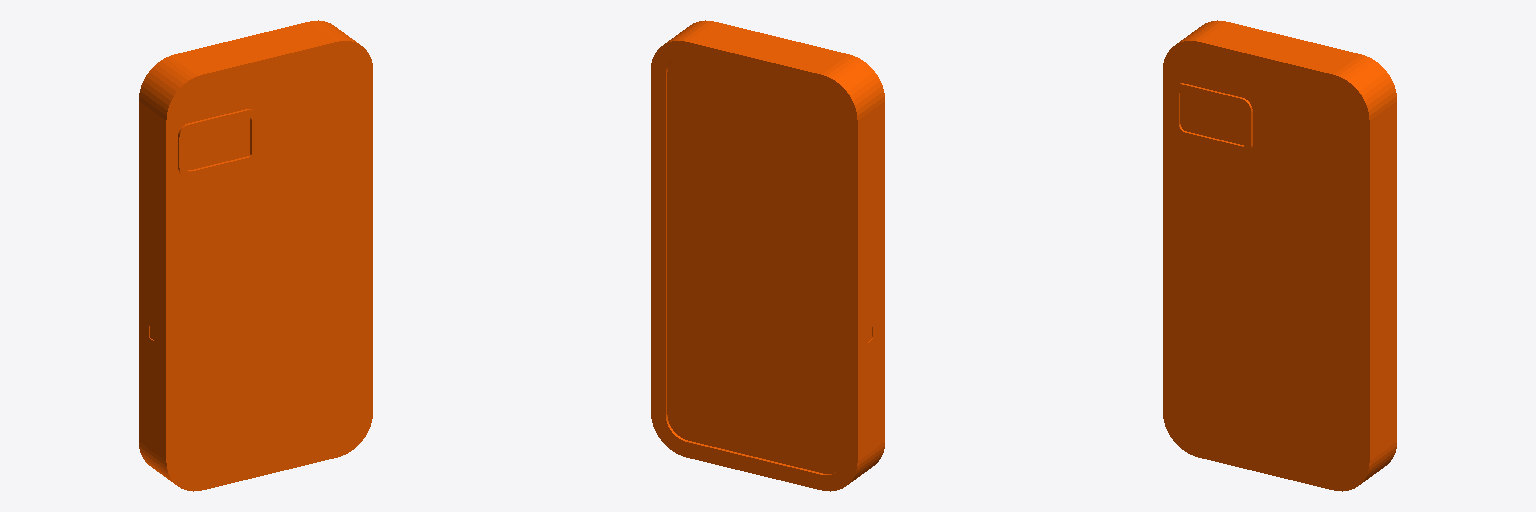
robot.urdf — CellPhone_24c665b954ccb8c26e4f3fb3ce0feb39:
<?xml version="1.0" ?>
<robot name="CellPhone_24c665b954ccb8c26e4f3fb3ce0feb39">
   <material name="obj_color">
      <color rgba="1.0 0.423529411765 0.0392156862745 1.0"/>
   </material>
   <link name="top">
      <inertial>
         <origin rpy="3.35506641357598e-05 0.0001183378525988911 0.0001482012018864136" xyz="0.0005322460676315547 0.000231392376491475 -0.002314346950554434"/>
         <mass value="0.1030560068541474"/>
         <inertia ixx="0.0001183375018616565" ixy="-8.76678151634423e-08" ixz="2.264321139962334e-07" iyy="0.0001482005382532192" iyz="2.164855245927147e-07" izz="3.35516785061887e-05"/>
      </inertial>
      <visual>
         <origin rpy="0 0 0" xyz="0 0 0"/>
         <geometry>
            <mesh filename="top_watertight_tiny.stl" scale="1 1 1"/>
         </geometry>
         <material name="obj_color"/>
      </visual>
      <collision>
         <origin rpy="0 0 0" xyz="0 0 0"/>
         <geometry>
            <mesh filename="top_watertight_tiny.obj" scale="1 1 1"/>
         </geometry>
      </collision>
   </link>
   <link name="bottom">
      <inertial>
         <origin rpy="1.633333333199431e-08 1.633333333199431e-08 1.633333333362855e-08" xyz="0.3464080000000008 0.3464080000000008 0.3464080000000008"/>
         <mass value="0.0009800000000000017"/>
         <inertia ixx="1.633333333253906e-08" ixy="5.447480642029219e-19" ixz="5.447480642029219e-19" iyy="1.633333333253906e-08" iyz="5.447480642029219e-19" izz="1.633333333253906e-08"/>
      </inertial>
      <visual>
         <origin rpy="0 0 0" xyz="0 0 0"/>
         <geometry>
            <mesh filename="bottom_watertight_tiny.stl" scale="1 1 1"/>
         </geometry>
         <material name="obj_color"/>
      </visual>
   </link>
   <link name="world"/>
   <joint name="world_to_base" type="fixed">
      <origin xyz="0 0 0"/>
      <axis xyz="0 0 0"/>
      <parent link="world"/>
      <child link="bottom"/>
   </joint>
   <joint name="rotation" type="revolute">
      <origin xyz="0 0 0"/>
      <axis xyz="0 0 -1"/>
      <parent link="bottom"/>
      <child link="top"/>
      <dynamics damping="1.0" friction="1.0"/>
      <limit effort="0.1" velocity="0.1" lower="0" upper="0.001"/>
   </joint>
</robot>

--- What the picture shows (computed from the rendered views, not written in the file) ---
The picture shows the robot from 3 angles, left to right: view 1: azimuth 30°, elevation 25°; view 2: azimuth 150°, elevation 25°; view 3: azimuth 330°, elevation 25°; orthographic projection.
Robot: CellPhone_24c665b954ccb8c26e4f3fb3ce0feb39 — 3 links, 2 joints (1 revolute, 1 fixed); root link world; default pose: all joints at 0.
Visible links, largest first — view 1: top; view 2: top; view 3: top.
Link boxes in pixels (x1,y1,x2,y2): top: (139, 20, 372, 491); top: (651, 20, 884, 491); top: (1163, 20, 1396, 491).
Bounding box of the posed robot: 0.0616 × 0.0151 × 0.1182 m (x, y, z).
Meshes: 2 distinct files referenced, 1 mesh visuals loaded (1 binary STL); not drawn: 1 (reference not matched to a file when rendering).
